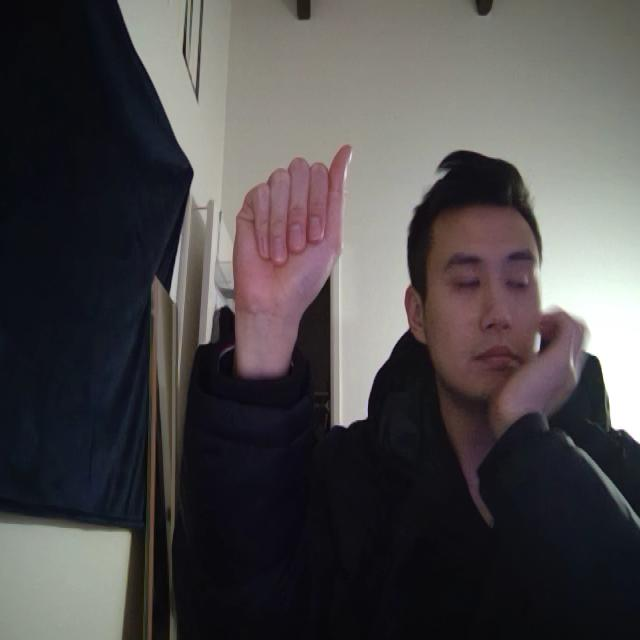A: (207, 99, 393, 398)
